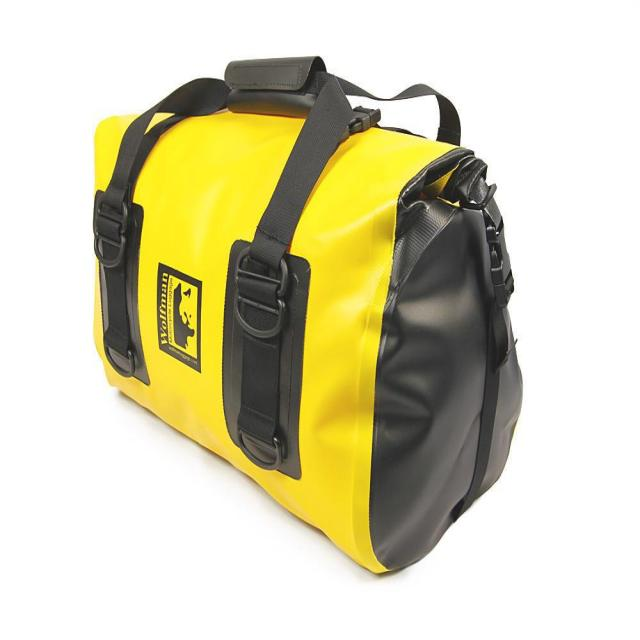other: (67, 73, 430, 578)
